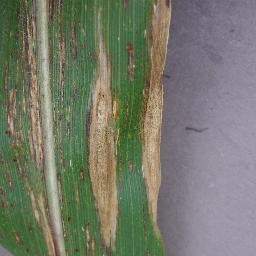Corn_Blight: (130, 1, 179, 251), (0, 0, 75, 148), (92, 13, 126, 251), (0, 153, 67, 256), (77, 207, 107, 252), (77, 163, 92, 189)
